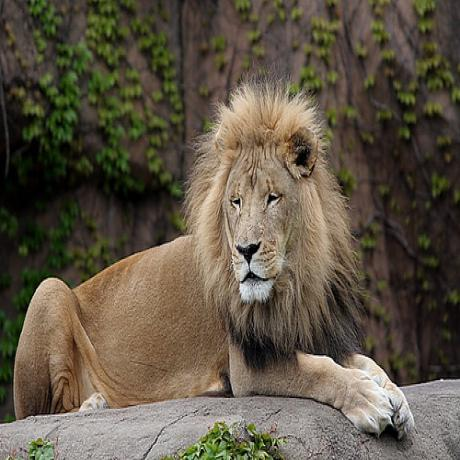Lion: (15, 88, 415, 441)
